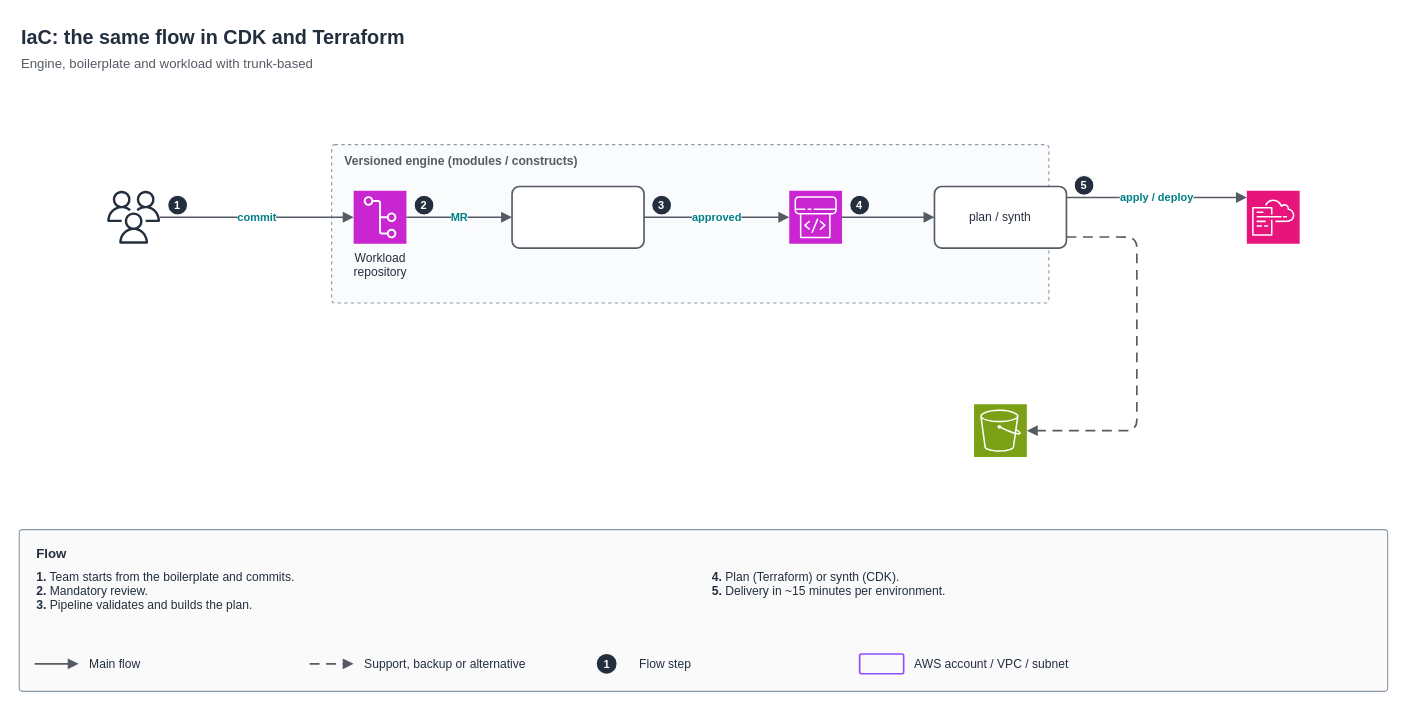
This 1407x711 diagram has some shape labels left out. The shapes that lost their labels are listed below. From the top down, each one's centre as x and y in pixels, then its label:
the point at 133,216: DevOps team jr / mid
the point at 577,216: Code review
the point at 815,217: Pipeline init · validate
the point at 1273,217: Environments dev · hml · prd
the point at 1000,430: Remote state S3 + lock
